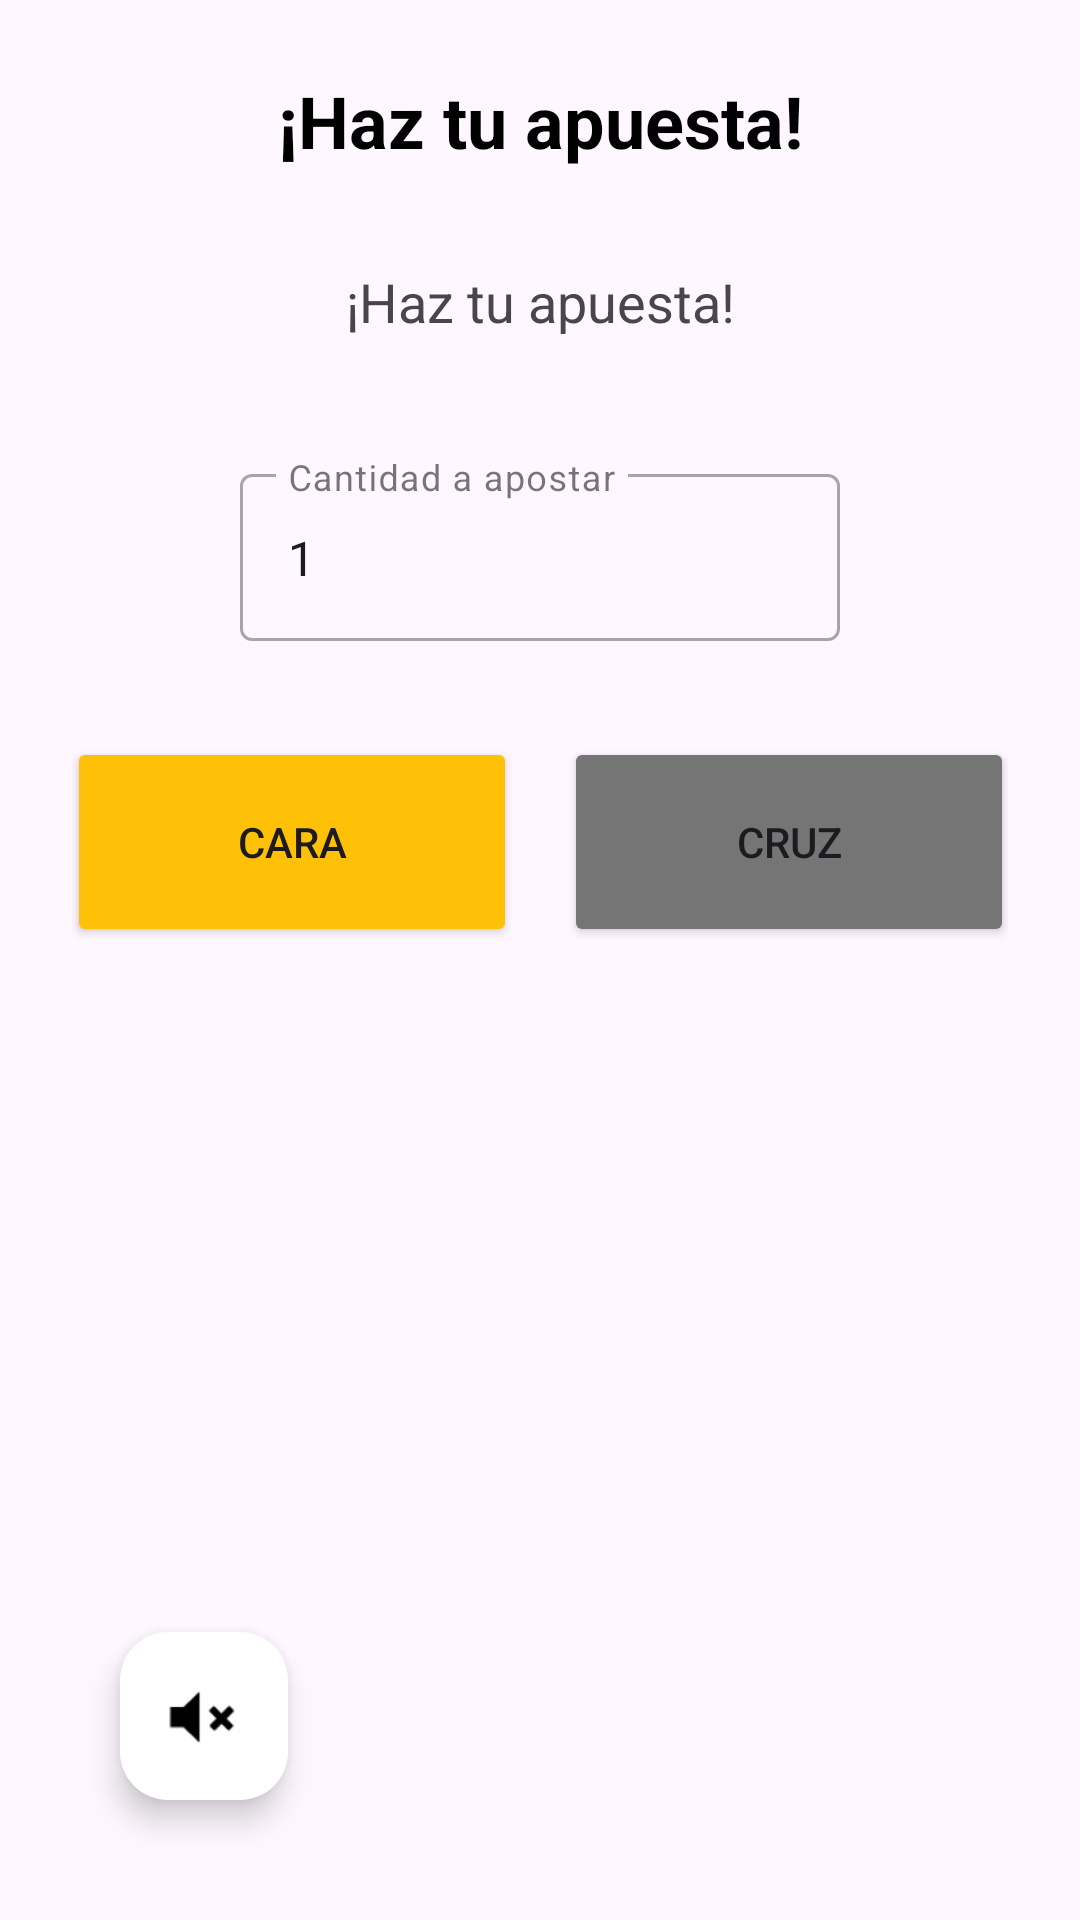

Icons on this 1080w x 1920h Android screen, each with the point to tap as (x=x, y=y):
Música: (x=204, y=1716)
